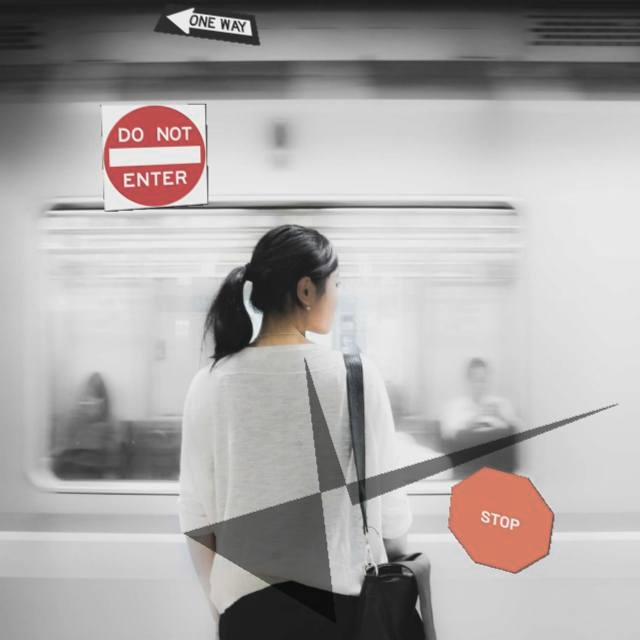DO_NOT_ENTER: (100, 104, 208, 212)
ONE_WAY_ left: (152, 3, 260, 46)
STOP: (447, 466, 554, 574)
